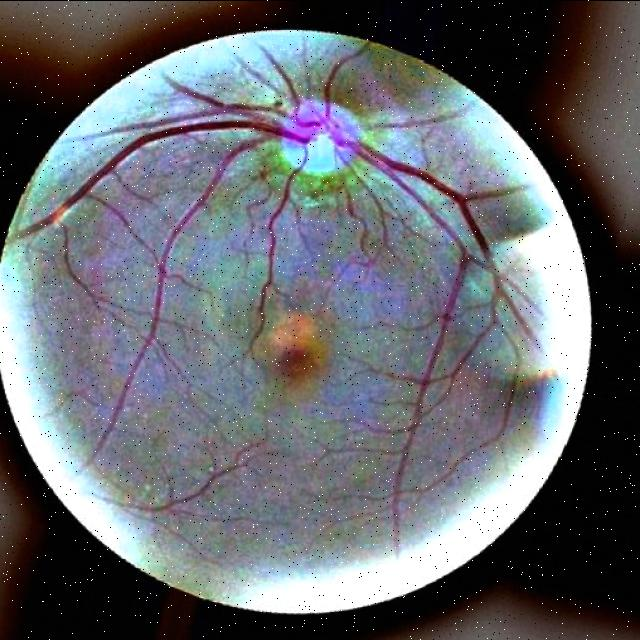Macula: (270, 311, 326, 383)
Nerves: (18, 45, 489, 321), (154, 140, 263, 320), (416, 198, 499, 320), (261, 152, 306, 307), (345, 164, 398, 242), (175, 83, 278, 117), (386, 116, 447, 126), (399, 219, 420, 234)
Optic Disk: (281, 98, 358, 173)
